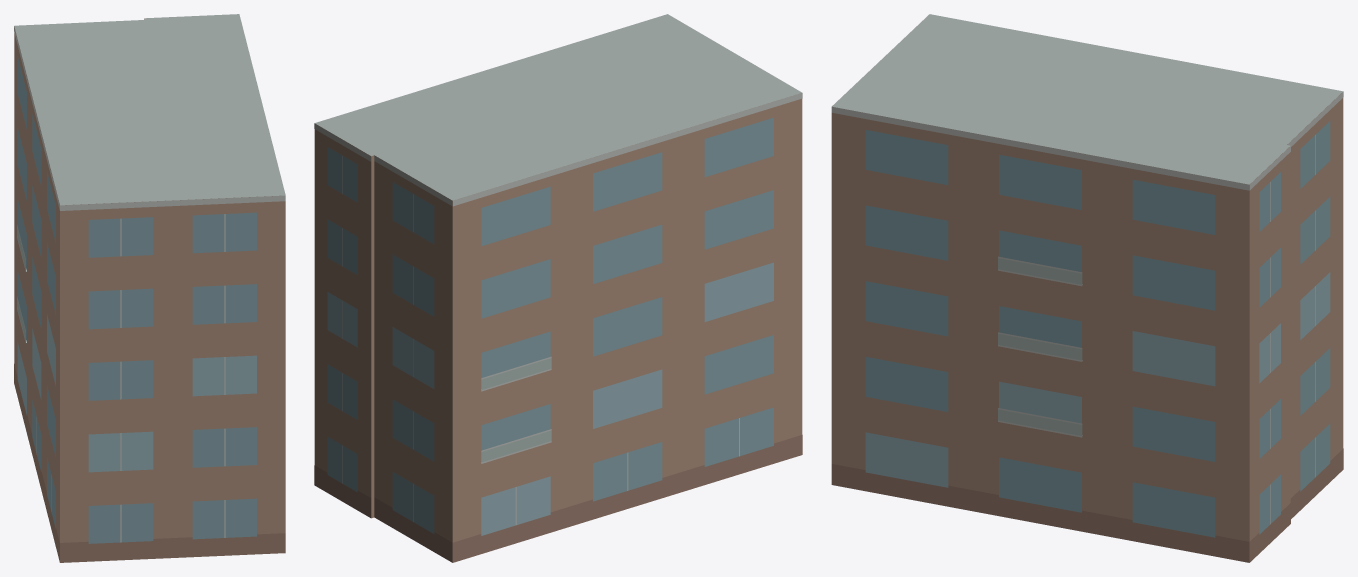
Rendered from survey-upis-33038683.glb.
3 renders of one model, left to right at view 1: azimuth 30°, elevation 25°; view 2: azimuth 150°, elevation 25°; view 3: azimuth 270°, elevation 25°, orthographic. The views are drawn at different scales.
Parts seen in each view (by area): view 1: survey-upis-33038683.tmp; view 2: survey-upis-33038683.tmp; view 3: survey-upis-33038683.tmp.
Part boxes in pixels (left/top/right/bottom): survey-upis-33038683.tmp: left=14, top=14, right=285, bottom=562; survey-upis-33038683.tmp: left=314, top=14, right=802, bottom=562; survey-upis-33038683.tmp: left=831, top=14, right=1343, bottom=562.
Bounding box in the file's own units: 14.81 × 15.3 × 18.77.
